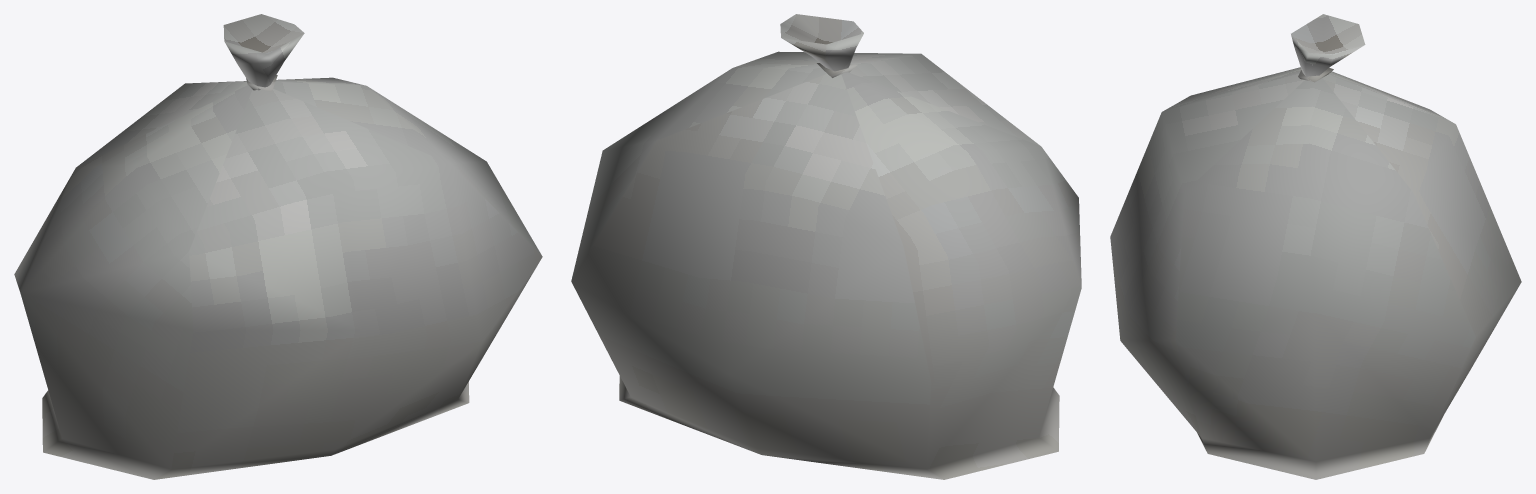
The model's file is objects_un_dlc1_t10trashbag01.gltf.
3 views of the same model, side by side, from view 1: azimuth 30°, elevation 25°; view 2: azimuth 150°, elevation 25°; view 3: azimuth 270°, elevation 25° (orthographic). The views are drawn at different scales.
Parts seen in each view (by area): view 1: um_objects_un_dlc1_t10trashbag01_model_lod0Shape:objects_un_; view 2: um_objects_un_dlc1_t10trashbag01_model_lod0Shape:objects_un_; view 3: um_objects_un_dlc1_t10trashbag01_model_lod0Shape:objects_un_.
Part boxes in pixels (left/top/right/bottom): um_objects_un_dlc1_t10trashbag01_model_lod0Shape:objects_un_: left=14, top=14, right=542, bottom=479; um_objects_un_dlc1_t10trashbag01_model_lod0Shape:objects_un_: left=571, top=14, right=1081, bottom=479; um_objects_un_dlc1_t10trashbag01_model_lod0Shape:objects_un_: left=1110, top=14, right=1521, bottom=479.
Size of what is drawn, in the model's own units: 0.6984 by 0.5593 by 0.5516.
2 materials, 1 textured.
